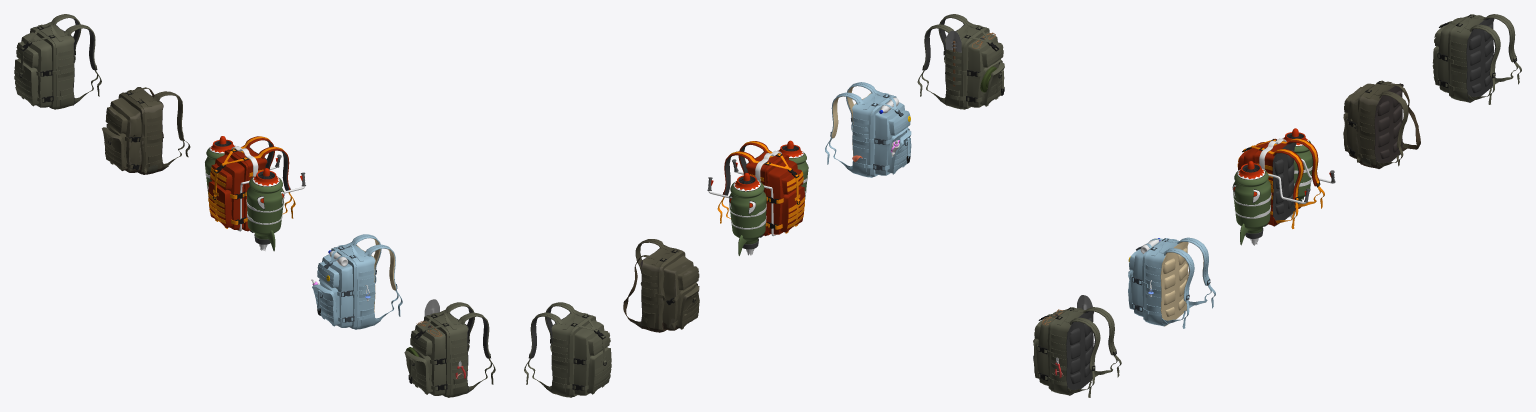
The model's file is Secondary forms [Backpack].fbx.
The picture shows the model from 3 angles, left to right: view 1: azimuth 30°, elevation 25°; view 2: azimuth 150°, elevation 25°; view 3: azimuth 330°, elevation 25°; orthographic projection.
Parts seen in each view (by area): view 1: Cylinder, Cube.011, Cube.031, Cube.090, Cube.012, Cube.025, Cube.036, Cube.060, Cube.089, Cube.055, Cube.074, Cube.010 (+5 smaller); view 2: Cylinder, Cube.011, Cube.031, Cube.090, Cube.055, Cube.012, Cube.025, Cube.060, Cube.036, Cube.089, Cube.056, Cube.032 (+7 smaller); view 3: Cylinder, Cube.018, Cube.015, Cube.071, Cube.087, Cube.012, Cube.025, Cube.060, Cube.089, Cube.052, Cube.077, Cube.061 (+15 smaller).
Part boxes in pixels (bbox=[...]): Cylinder: bbox=[205, 139, 284, 239]; Cube.011: bbox=[109, 97, 141, 172]; Cube.031: bbox=[21, 32, 52, 107]; Cube.090: bbox=[415, 320, 446, 395]; Cube.012: bbox=[122, 87, 163, 174]; Cube.025: bbox=[33, 21, 74, 109]; Cube.036: bbox=[322, 254, 353, 327]; Cube.060: bbox=[334, 242, 375, 329]; Cube.089: bbox=[426, 310, 468, 397]; Cube.055: bbox=[215, 154, 244, 229]; Cube.074: bbox=[404, 347, 432, 393]; Cube.010: bbox=[102, 124, 127, 170]; Cylinder: bbox=[729, 144, 808, 244]; Cube.011: bbox=[662, 255, 694, 330]; Cube.031: bbox=[573, 320, 604, 395]; Cube.090: bbox=[967, 32, 998, 107]; Cube.055: bbox=[766, 159, 797, 234]; Cube.012: bbox=[641, 245, 682, 332]; Cube.025: bbox=[551, 310, 592, 397]; Cube.060: bbox=[852, 90, 893, 177]; Cube.036: bbox=[874, 102, 904, 175]; Cube.089: bbox=[945, 22, 986, 109]; Cube.056: bbox=[780, 186, 804, 232]; Cube.032: bbox=[587, 347, 611, 393]; Cylinder: bbox=[1232, 132, 1312, 233]; Cube.018: bbox=[1374, 84, 1403, 168]; Cube.015: bbox=[1466, 18, 1494, 102]; Cube.071: bbox=[1160, 242, 1188, 326]; Cube.087: bbox=[1066, 311, 1093, 395]; Cube.012: bbox=[1358, 80, 1402, 168]; Cube.025: bbox=[1449, 14, 1485, 102]; Cube.060: bbox=[1144, 238, 1178, 326]; Cube.089: bbox=[1049, 307, 1085, 395]; Cube.052: bbox=[1272, 142, 1296, 226]; Cube.077: bbox=[1069, 318, 1092, 373]; Cube.061: bbox=[1163, 248, 1187, 305].
Bounding box in the file's own units: 245 × 268 × 2156.
